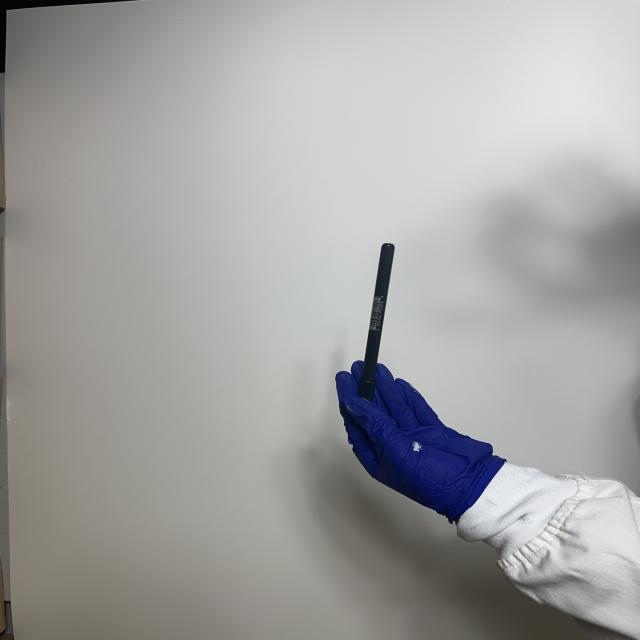gloves_contaminated: (336, 361, 505, 523)
